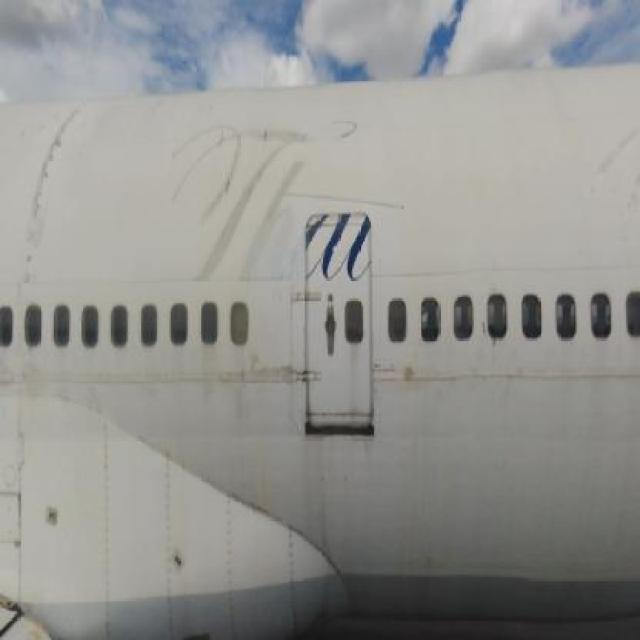Scartch: (167, 122, 308, 278), (13, 111, 76, 278), (584, 117, 640, 244), (395, 349, 459, 394), (251, 358, 324, 394)
